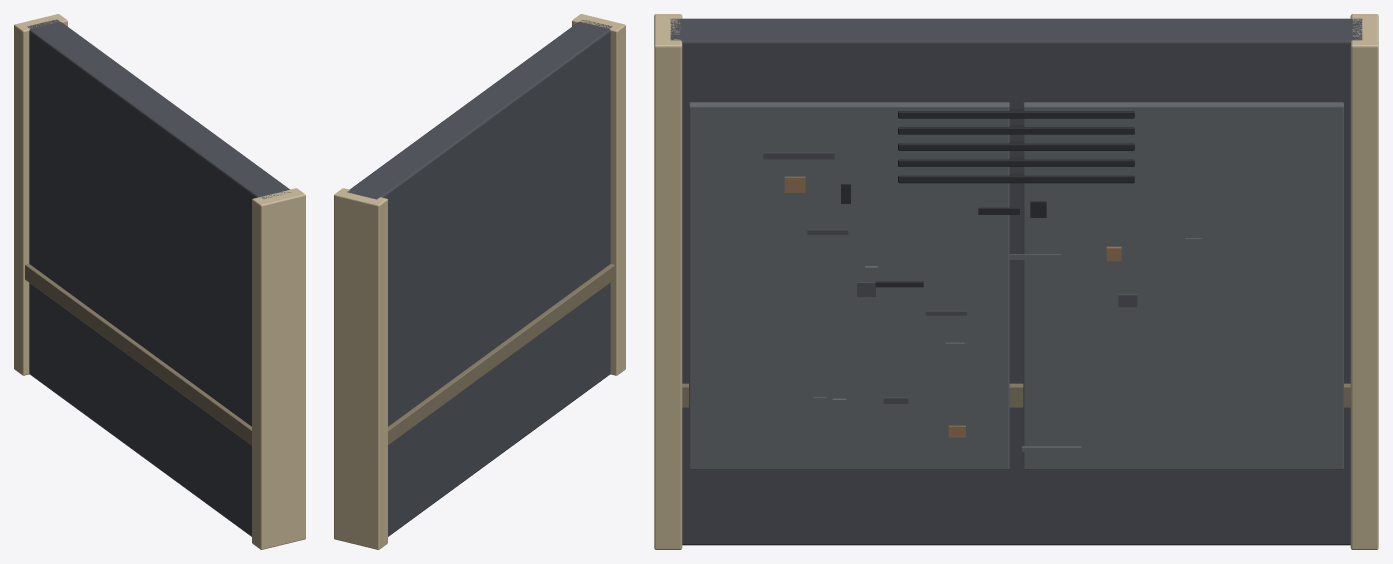
File: env_wall.fbx
The picture shows the model from 3 angles, left to right: view 1: azimuth 30°, elevation 25°; view 2: azimuth 150°, elevation 25°; view 3: azimuth 270°, elevation 25°; orthographic projection. The views are drawn at different scales.
Parts seen in each view (by area): view 1: SM_Env_Wall; view 2: SM_Env_Wall; view 3: SM_Env_Wall.
Boxes of the visible parts, x1=… form: SM_Env_Wall: x1=14, y1=14, x2=305, y2=549; SM_Env_Wall: x1=334, y1=14, x2=625, y2=549; SM_Env_Wall: x1=654, y1=14, x2=1378, y2=549.
Size of what is drawn, in the model's own units: 46.2 by 320 by 416.
